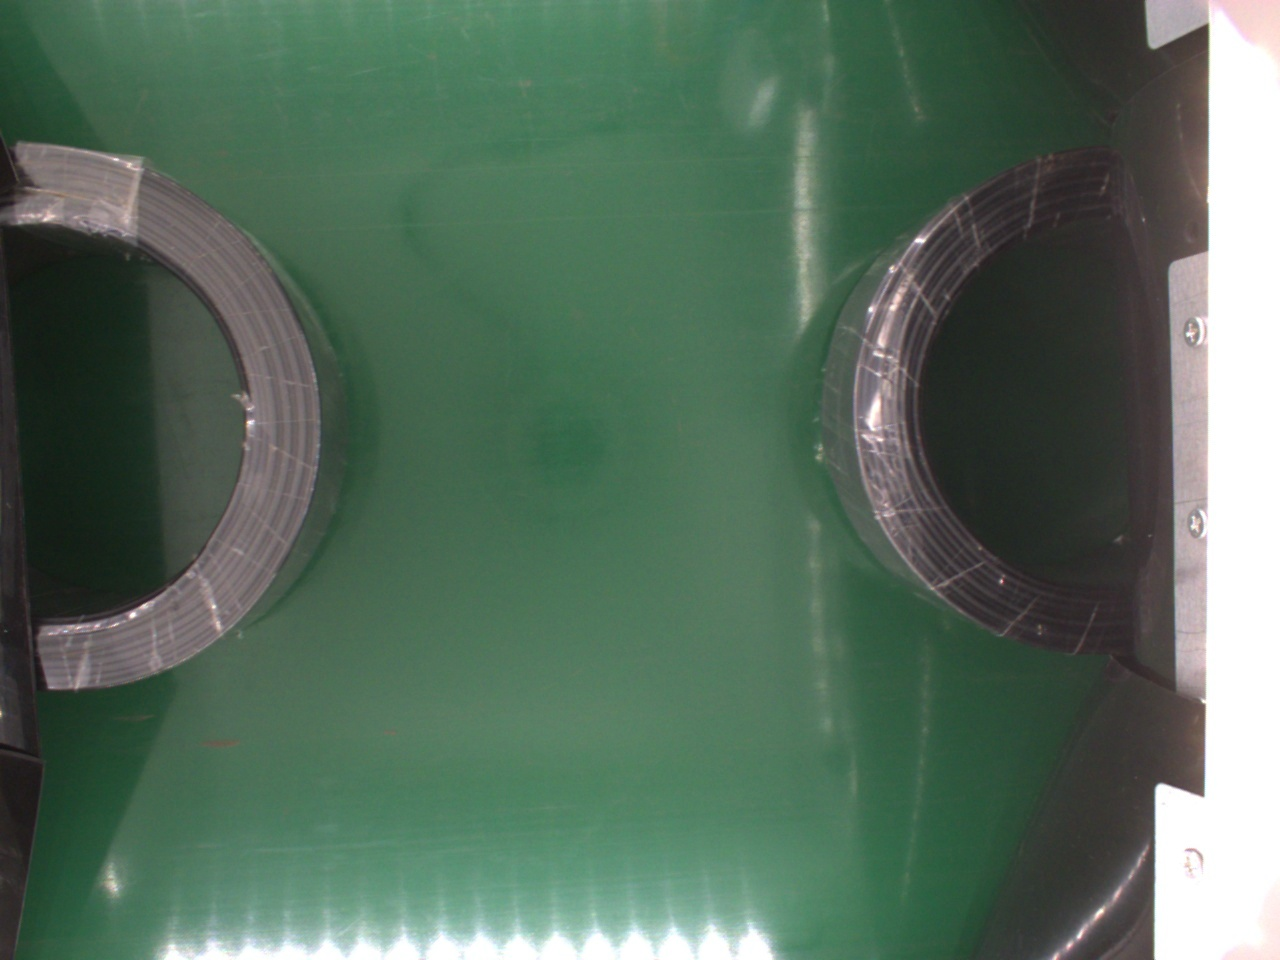black: (10, 141, 344, 698), (827, 149, 1146, 659)
